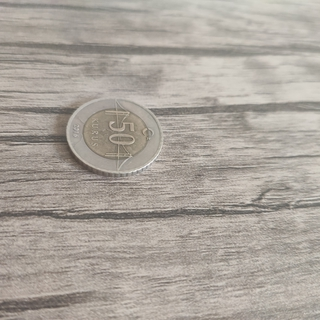50KURUS: (64, 95, 164, 178)
